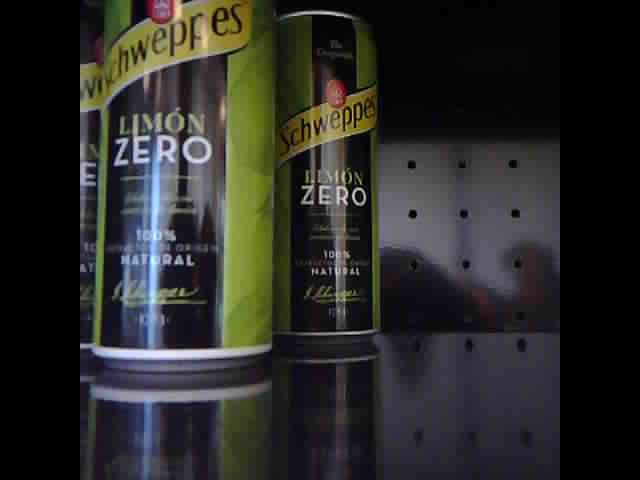schweppes: (88, 2, 277, 371), (270, 5, 375, 347)
